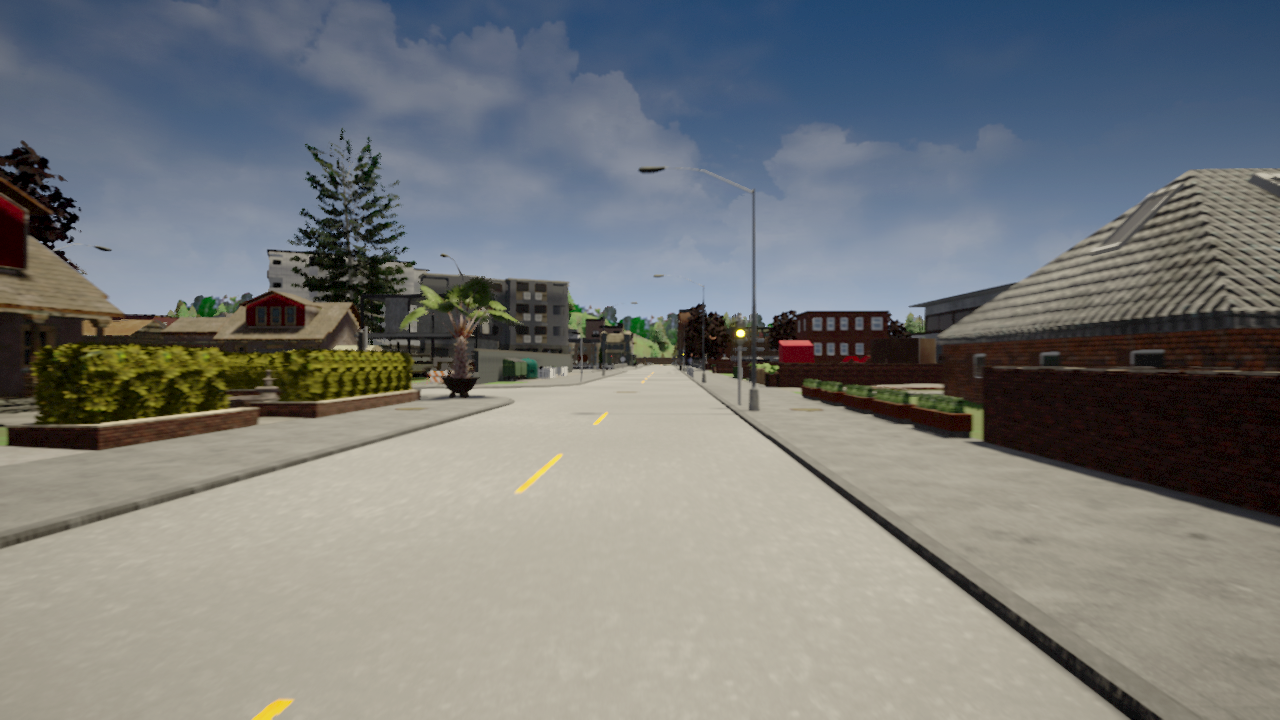yellow: (734, 318, 747, 349)
